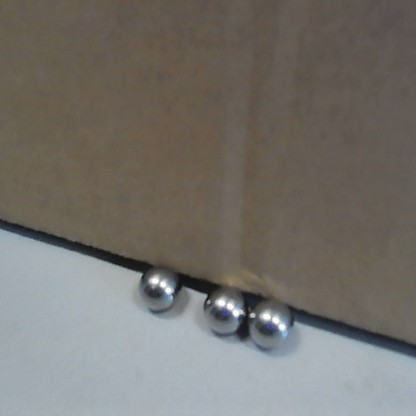ironball: (241, 292, 297, 348), (197, 279, 249, 338), (134, 264, 184, 313)
